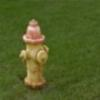a fire hydrant: (19, 19, 49, 88)
